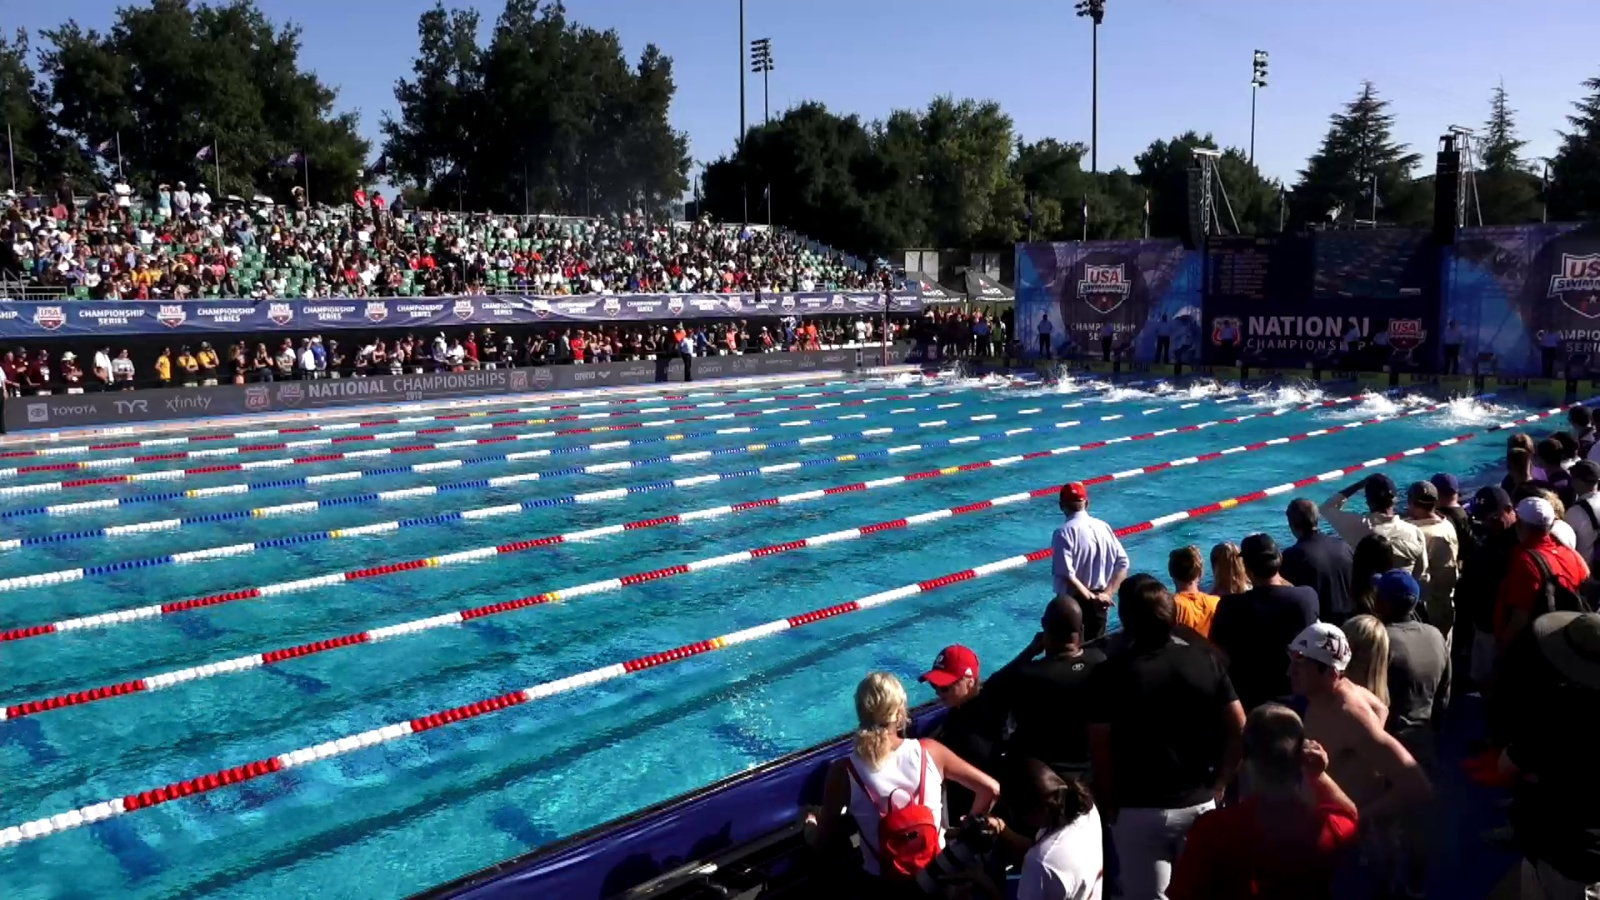swimmerw: (1451, 398, 1510, 429), (1389, 393, 1427, 416)
